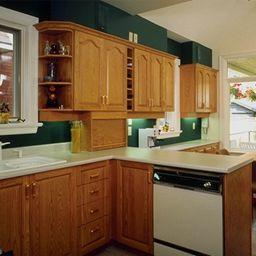Electrodomestico: (154, 166, 225, 254)
Lavaplatos: (3, 138, 68, 180)
